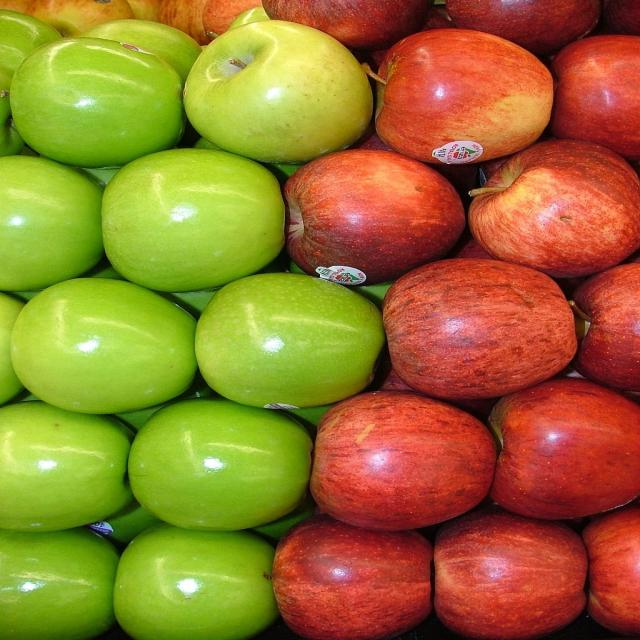Apple: (366, 255, 576, 379), (190, 31, 377, 156), (128, 405, 314, 526), (205, 280, 389, 402), (107, 156, 290, 278), (316, 390, 498, 510), (282, 150, 480, 259), (379, 29, 556, 145), (19, 281, 189, 400), (473, 138, 639, 255), (19, 43, 191, 152), (496, 382, 640, 510), (118, 527, 280, 639), (274, 520, 427, 636), (434, 515, 580, 635), (0, 408, 139, 526), (0, 534, 122, 640), (0, 160, 103, 273), (558, 38, 640, 153), (440, 0, 616, 45), (259, 0, 437, 41), (586, 516, 640, 637), (582, 261, 636, 380), (35, 0, 135, 35), (202, 0, 258, 33), (158, 0, 198, 25)
